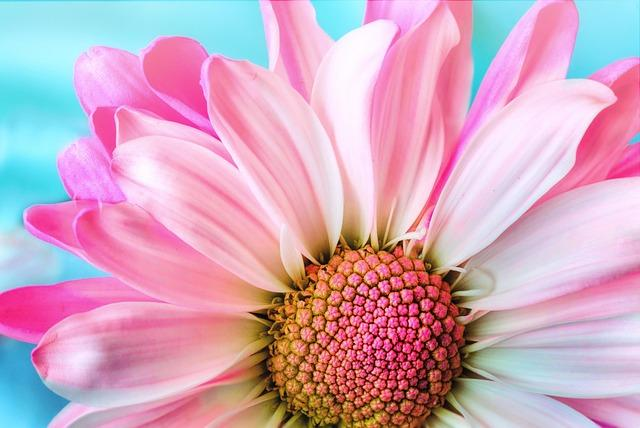Non_Gorille: (40, 19, 614, 412)
